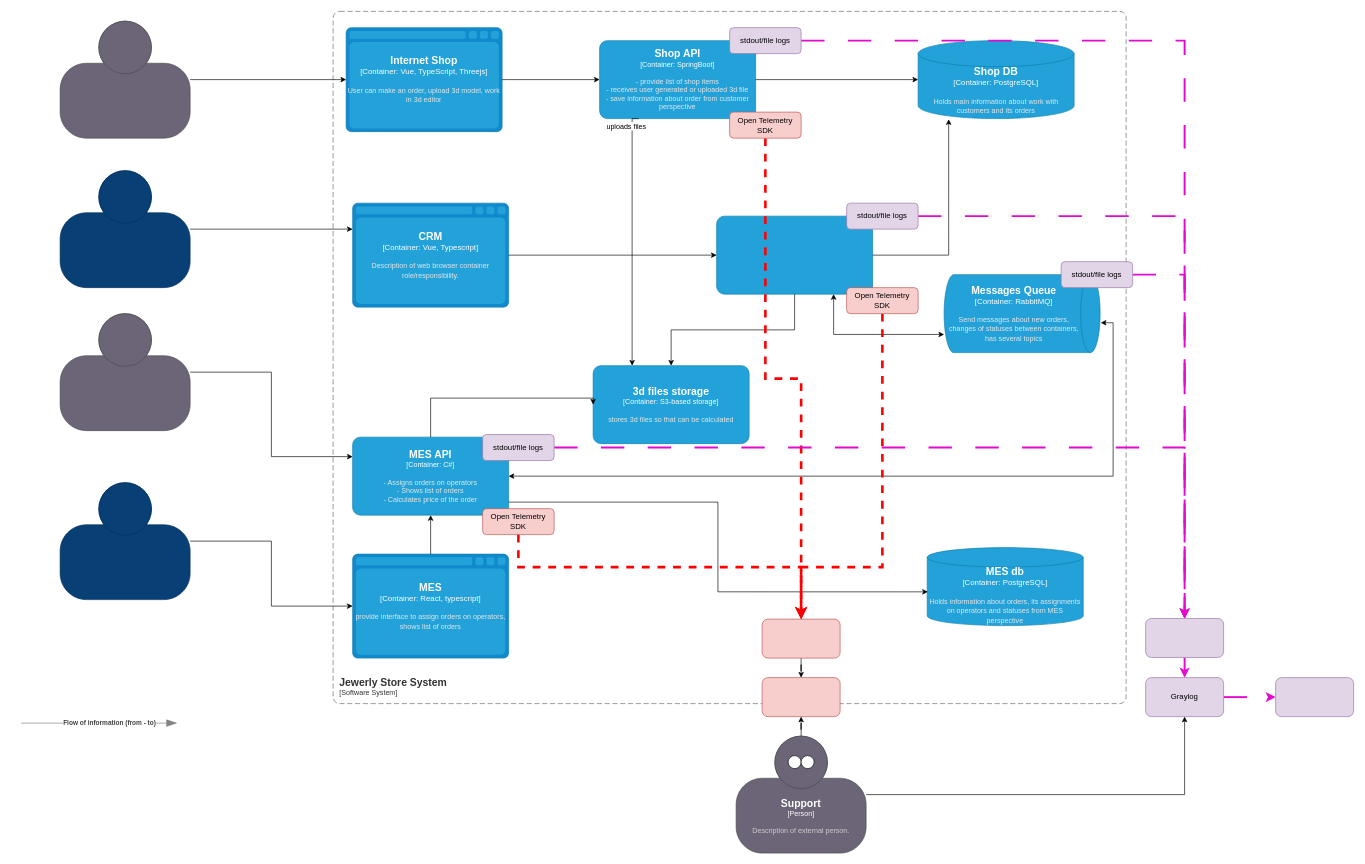
The diagram is 1365 pixels wide and 864 high, and some of its shapes have lost their labels. The shapes that lost their labels are listed below. From the top down, each one's centre as x and y in pixels, then its label:
point 124,79: Customer [Person] Description of external person.
point 124,229: Seller [Person] Operates with order, confirms manufacturing for the user
point 794,254: CRM API [Container: SpringBoot] Description of container role/responsibility.
point 124,372: API user [Person] Description of external person.
point 124,541: Operator [Person] Takes order in work, manufactures jewerly
point 800,638: OpenTelemetry Collector
point 1184,637: FluentBit
point 800,697: Jaeger
point 1314,697: Opensearch
